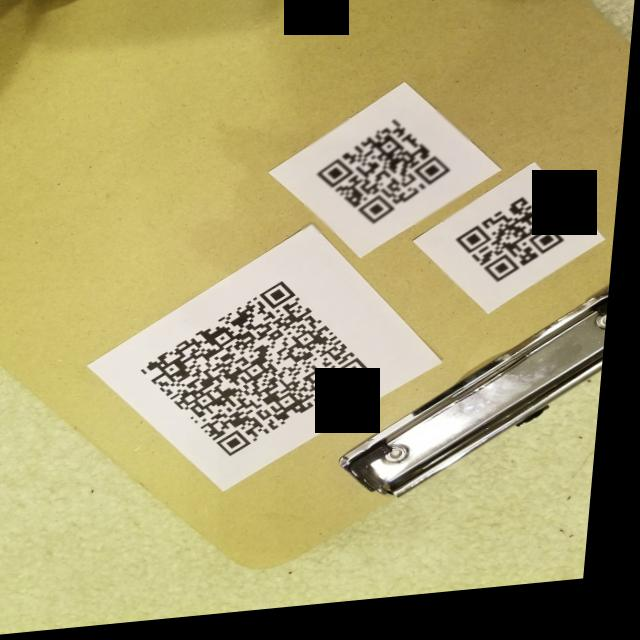QR_CODE: (128, 270, 398, 479), (306, 116, 476, 242), (445, 200, 586, 303)
